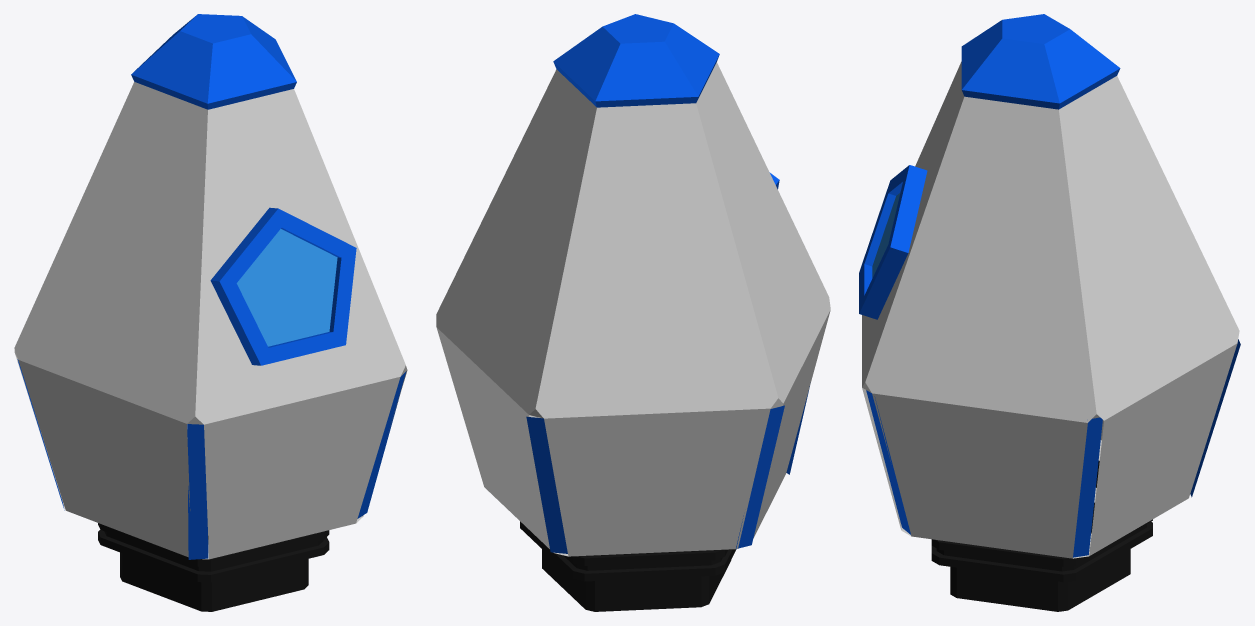
File: LP_Rocketbroken.fbx
3 views of the same model, side by side, from view 1: azimuth 30°, elevation 25°; view 2: azimuth 150°, elevation 25°; view 3: azimuth 270°, elevation 25° (orthographic).
Visible parts, largest first — view 1: Rocket_Fins, Rocket_Window, Rocket_Thruster, Rocket_Nose; view 2: Rocket_Fins, Rocket_Nose, Rocket_Thruster; view 3: Rocket_Fins, Rocket_Nose, Rocket_Thruster, Rocket_Window.
Boxes of the visible parts, <box> form: Rocket_Fins: <box>14,82,407,559</box>; Rocket_Window: <box>210,207,356,365</box>; Rocket_Thruster: <box>98,523,329,611</box>; Rocket_Nose: <box>131,14,296,109</box>; Rocket_Fins: <box>436,62,830,556</box>; Rocket_Nose: <box>553,14,719,107</box>; Rocket_Thruster: <box>520,521,736,611</box>; Rocket_Fins: <box>862,61,1240,558</box>; Rocket_Nose: <box>961,14,1120,109</box>; Rocket_Thruster: <box>931,461,1152,611</box>; Rocket_Window: <box>859,165,927,319</box>.
Bounding box in the file's own units: 231 × 350 × 223.
